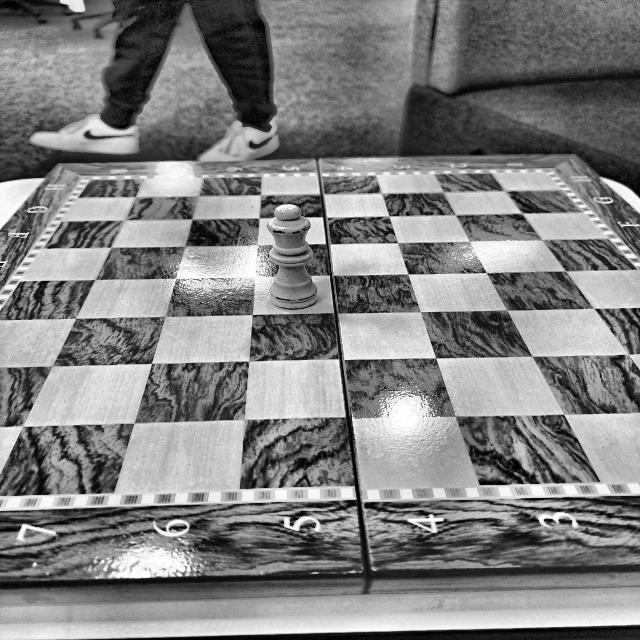white-queen: (266, 204, 318, 310)
